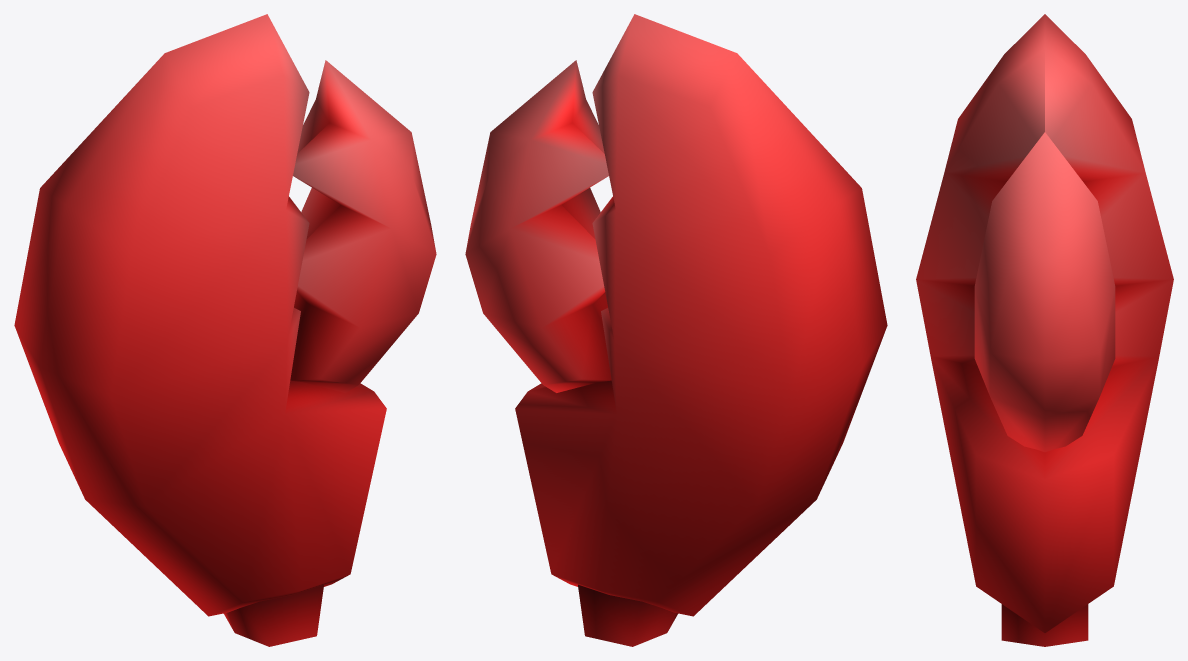
Rendered from Crab_Claw.fbx.
3 renders of one model, left to right at view 1: azimuth 30°, elevation 25°; view 2: azimuth 150°, elevation 25°; view 3: azimuth 270°, elevation 25°, orthographic. The views are drawn at different scales.
Visible parts, largest first — view 1: LobsterClaw; view 2: LobsterClaw; view 3: LobsterClaw.
Part boxes in pixels (x1=…): LobsterClaw: x1=14, y1=14, x2=436, y2=646; LobsterClaw: x1=465, y1=14, x2=887, y2=646; LobsterClaw: x1=916, y1=14, x2=1173, y2=646.
Size of the model in its own units: 66.81 by 99.66 by 40.16.
